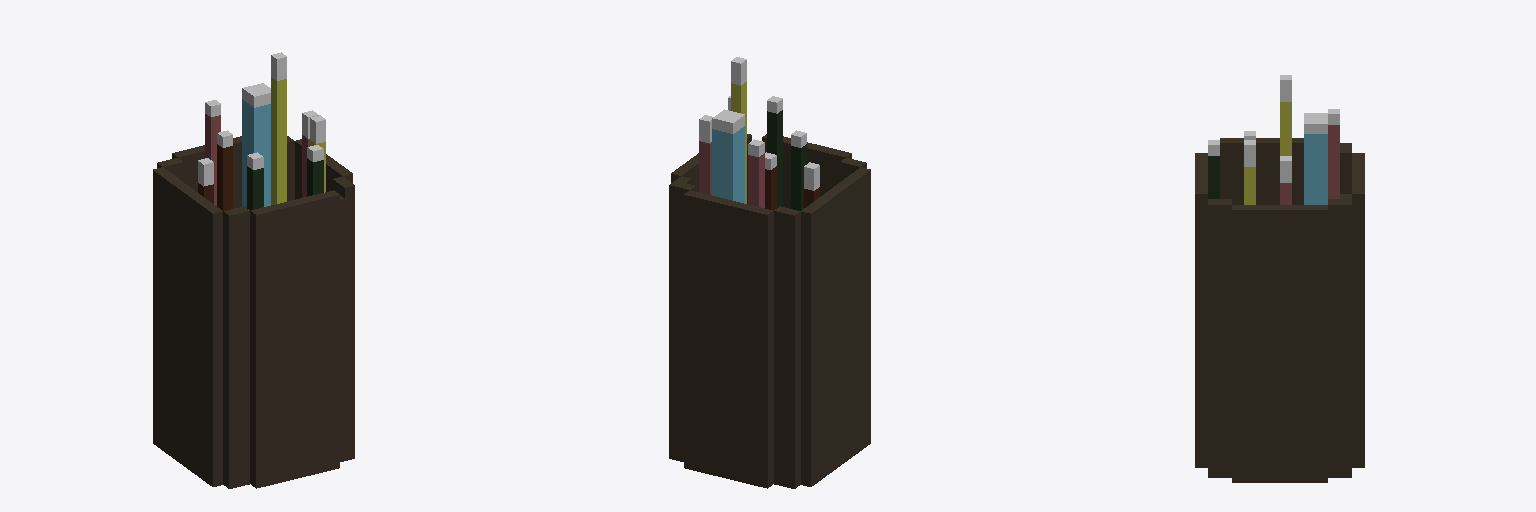
3 renders of one model, left to right at view 1: azimuth 30°, elevation 25°; view 2: azimuth 150°, elevation 25°; view 3: azimuth 270°, elevation 25°, orthographic.
Visible parts, largest first — view 1: object 1; view 2: object 1; view 3: object 1.
Boxes of the visible parts, box(x1,y1,x2,y2) form: object 1: box(153, 52, 354, 488); object 1: box(669, 57, 870, 488); object 1: box(1195, 75, 1364, 482).
Size of the model in its own units: 1.4 by 3.5 by 1.4.
1 materials, 1 textured.